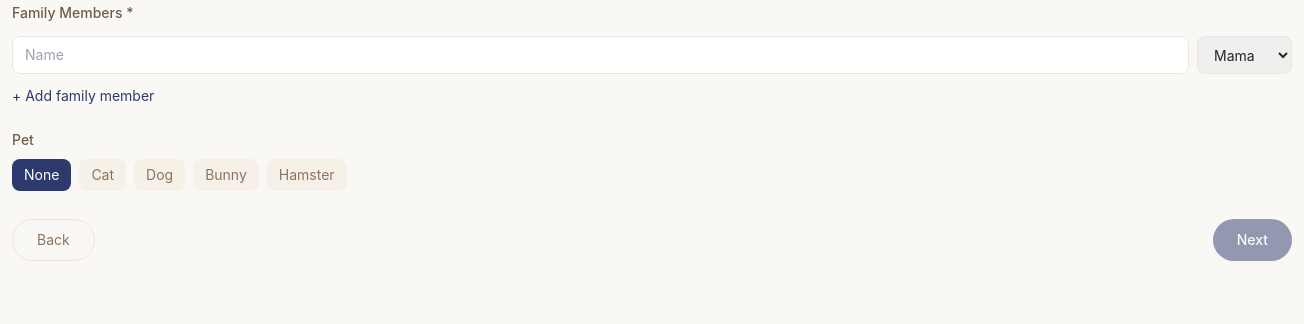
Scenario: FamilyStep › shows pet name field when pet type selected
What coordinates should you click on to do the following:
click the button "Cat"
I would click on:
 (103, 175)
Its box is [79, 159, 126, 191].
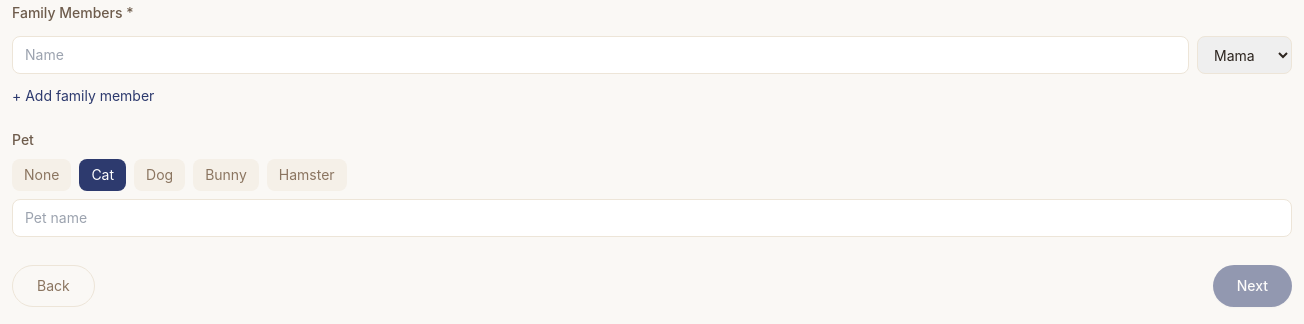
Result: the field with test id "input-pet-name" is shown at [12, 199, 1292, 237]
